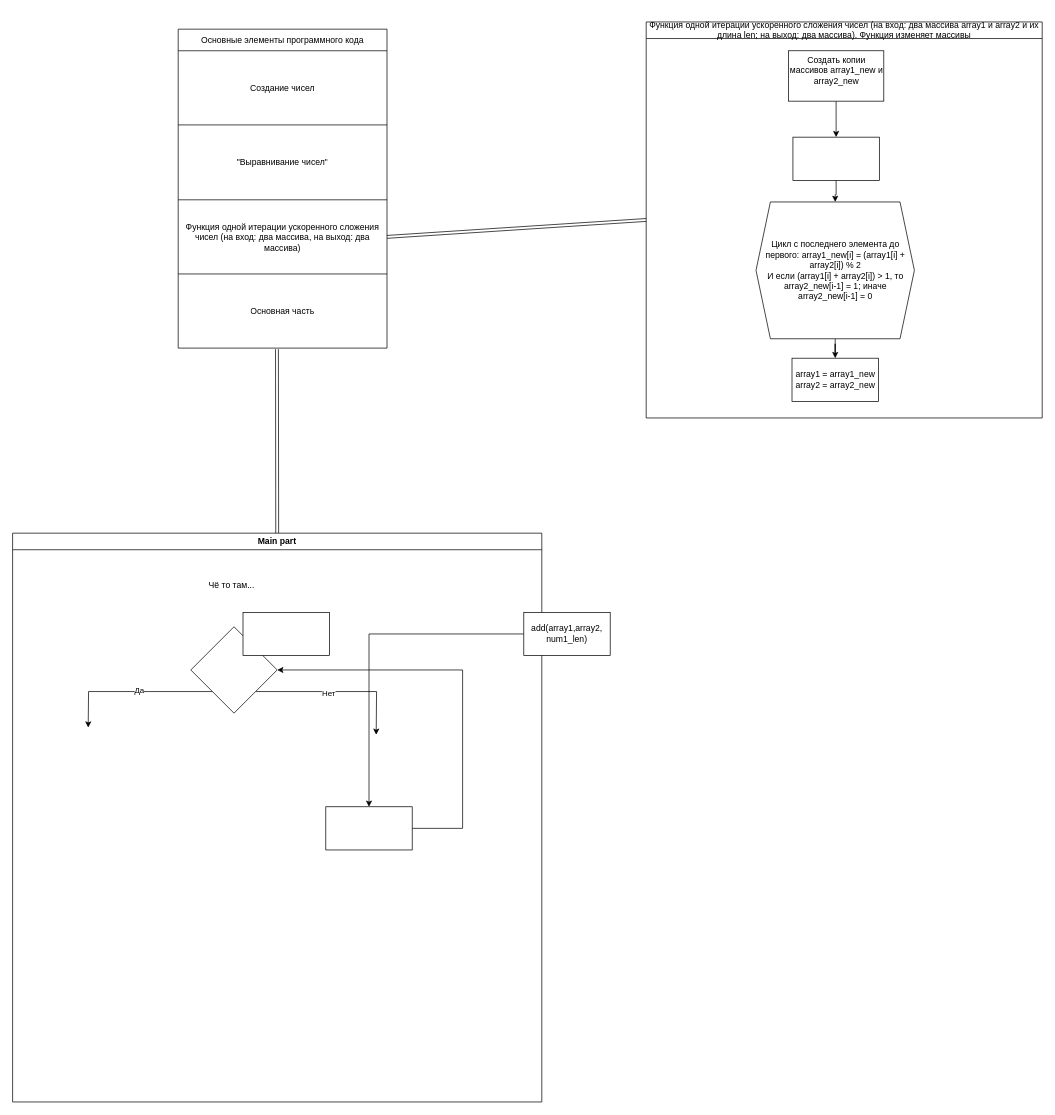
This 1055x1115 diagram has some shape labels left out. Here are the shapes that lost their labels. From the top down, the centre of each, then its label:
point 835,158: array2_new[len-1] = 0;
point 285,634: break
point 233,669: sum(array2) = 0?
point 368,828: вывести array и array2
